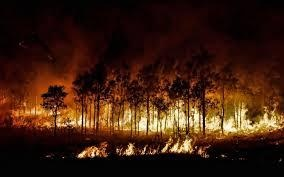fire: (59, 59, 276, 155)
